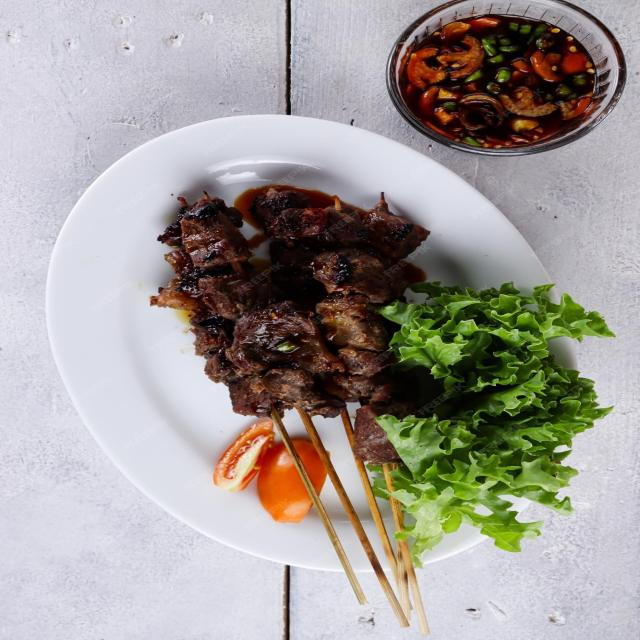Sate: (178, 188, 426, 596)
